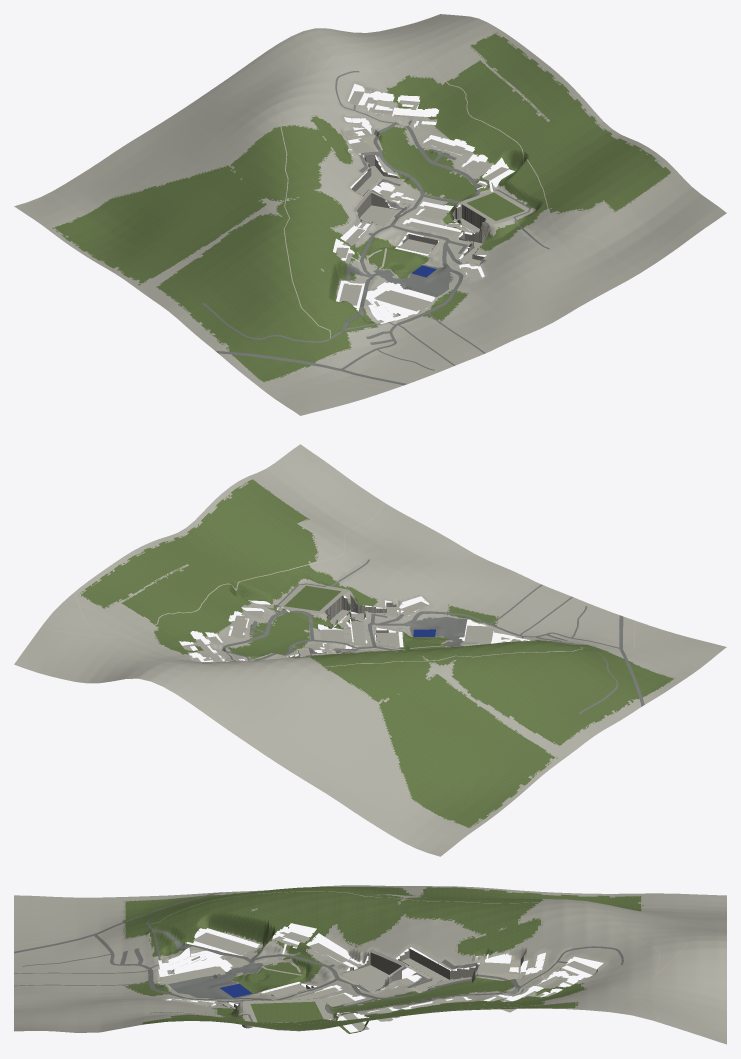
3 renders of one model, top to bottom at view 1: azimuth 30°, elevation 25°; view 2: azimuth 150°, elevation 25°; view 3: azimuth 270°, elevation 25°, orthographic. The views are drawn at different scales.
Visible parts, largest first — view 1: khu-base, khu-grass, khu-asphalt, khu-grass-overlay, khu-paving, khu-woodOver, s04__exteriorFoundationClosure, khu-pitchTurf, khu-stonebank; view 2: khu-base, khu-grass, khu-asphalt, khu-paving, khu-grass-overlay, khu-pitchTurf, khu-stonebank; view 3: khu-base, khu-grass, khu-asphalt, khu-woodOver, khu-paving, s04__exteriorFoundationClosure, khu-pitchTurf, khu-grass-overlay.
Boxes of the visible parts, bbox=[...] form: khu-base: bbox=[14, 14, 726, 415]; khu-grass: bbox=[55, 34, 670, 381]; khu-asphalt: bbox=[202, 71, 549, 385]; khu-grass-overlay: bbox=[52, 32, 669, 382]; khu-paving: bbox=[277, 16, 642, 389]; khu-woodOver: bbox=[318, 252, 467, 321]; s04__exteriorFoundationClosure: bbox=[352, 155, 437, 253]; khu-pitchTurf: bbox=[466, 192, 524, 220]; khu-stonebank: bbox=[452, 204, 488, 265]; khu-base: bbox=[14, 444, 726, 856]; khu-grass: bbox=[81, 479, 673, 827]; khu-asphalt: bbox=[180, 559, 644, 714]; khu-paving: bbox=[41, 502, 635, 673]; khu-grass-overlay: bbox=[80, 481, 675, 828]; khu-pitchTurf: bbox=[284, 585, 340, 610]; khu-stonebank: bbox=[324, 592, 397, 628]; khu-base: bbox=[14, 885, 726, 1044]; khu-grass: bbox=[122, 886, 640, 1033]; khu-asphalt: bbox=[14, 892, 623, 1021]; khu-woodOver: bbox=[123, 906, 288, 995]; khu-paving: bbox=[14, 891, 687, 1027]; s04__exteriorFoundationClosure: bbox=[265, 948, 474, 997]; khu-pitchTurf: bbox=[250, 1001, 323, 1022]; khu-grass-overlay: bbox=[123, 886, 643, 1030].
Bounding box in the file's own units: 856 × 228 × 996.
Materials: 17 (15 with a texture image).
